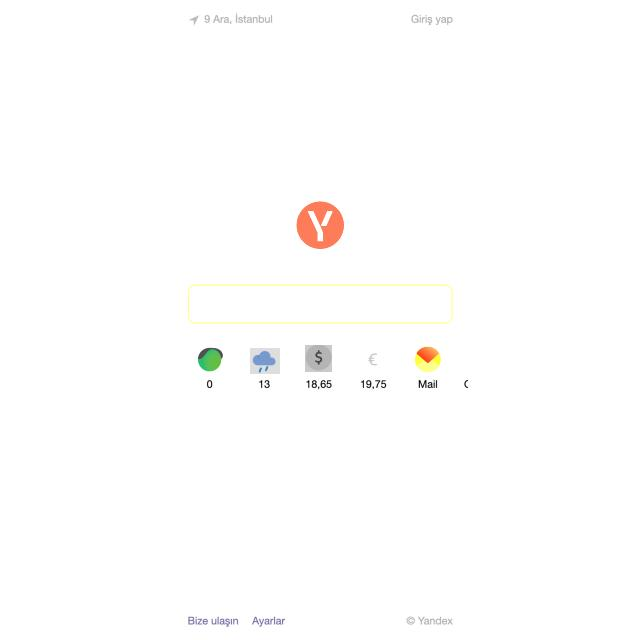CheckedTextView: (186, 283, 454, 325)
content: (359, 344, 388, 374), (414, 344, 441, 375), (250, 348, 280, 374), (305, 346, 332, 374), (197, 346, 224, 372)
date picker: (294, 198, 345, 250)
